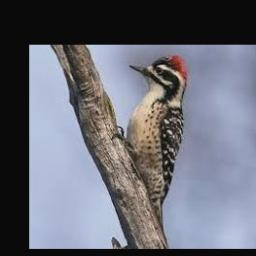Woodpecker: (112, 55, 190, 229)
